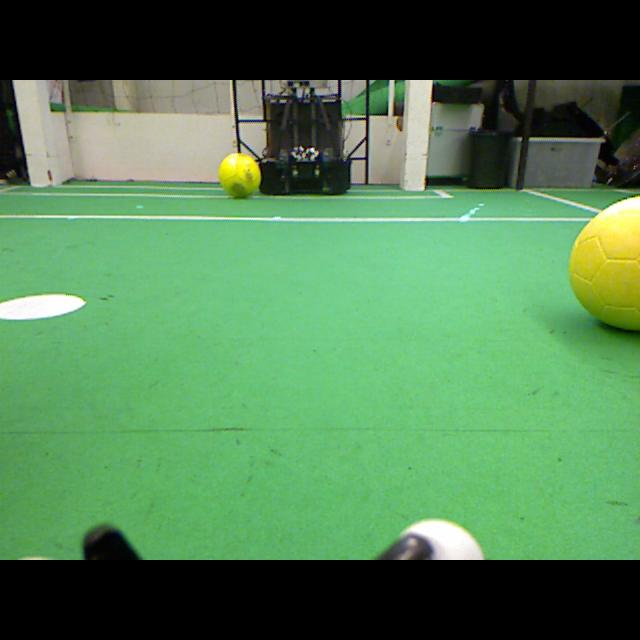ball: (568, 195, 639, 329), (218, 153, 261, 197)
goal: (12, 80, 53, 186), (404, 80, 433, 190)
robot: (256, 80, 352, 195)
